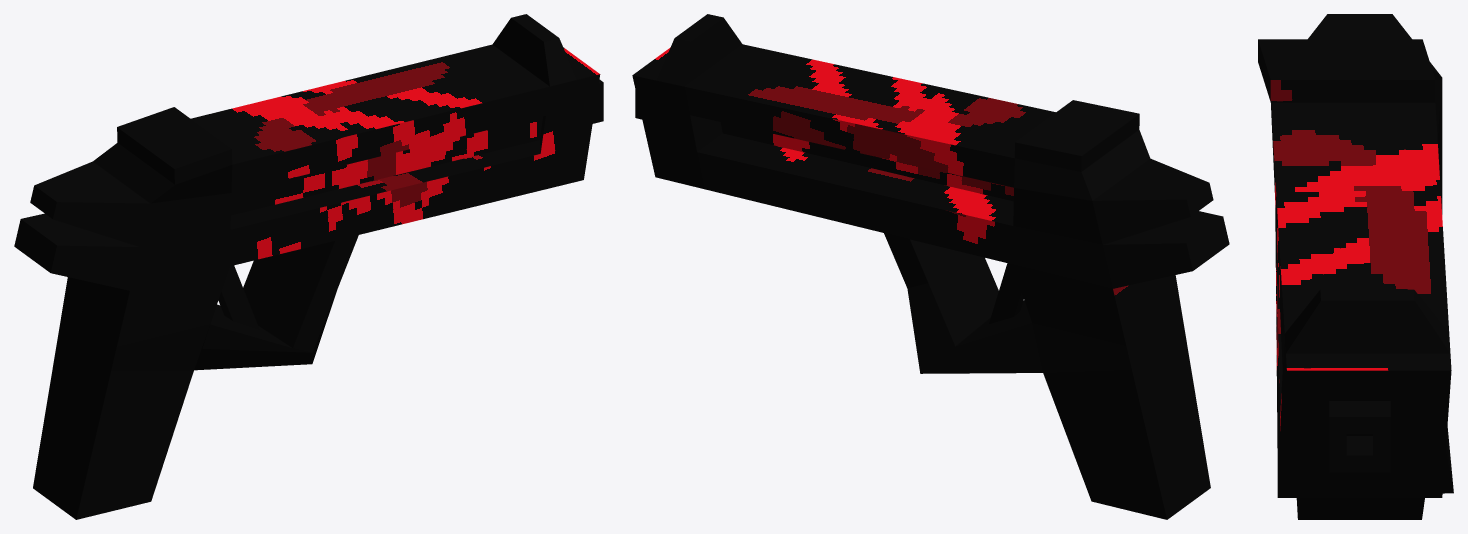
The model's file is cloth_gun.glb.
The picture shows the model from 3 angles, left to right: view 1: azimuth 30°, elevation 25°; view 2: azimuth 150°, elevation 25°; view 3: azimuth 270°, elevation 25°; orthographic projection. The views are drawn at different scales.
Parts seen in each view (by area): view 1: gun; view 2: gun; view 3: gun.
Part boxes in pixels (x1=…): gun: x1=14, y1=14, x2=603, y2=519; gun: x1=632, y1=14, x2=1229, y2=519; gun: x1=1258, y1=14, x2=1453, y2=519.
Bounding box in the file's own units: 1.95 × 1.18 × 0.4118.
1 material, 1 textured.
